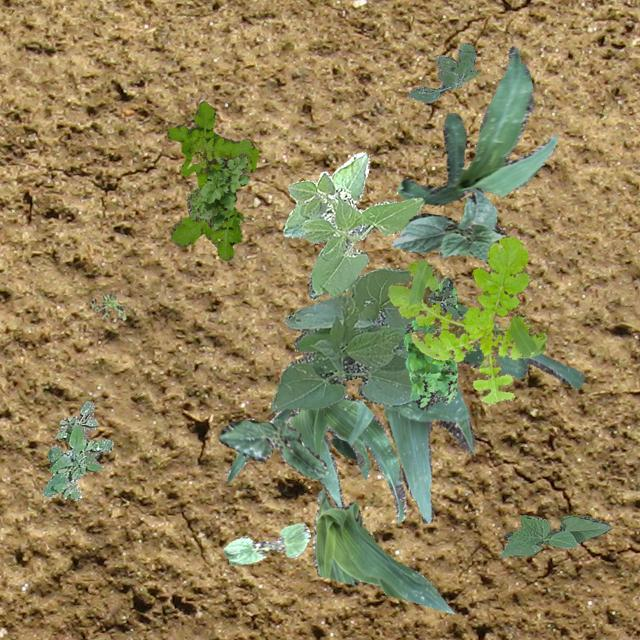crop: (383, 303, 583, 522), (396, 46, 556, 206), (270, 266, 433, 412), (224, 392, 404, 522), (282, 150, 422, 298), (311, 487, 453, 613), (390, 186, 506, 262), (218, 418, 326, 478), (498, 514, 610, 556), (222, 522, 310, 564), (330, 430, 356, 460)
weed: (386, 234, 546, 404), (166, 100, 258, 260), (402, 278, 457, 408), (42, 400, 112, 500), (186, 152, 248, 228), (406, 42, 479, 102), (414, 276, 460, 332), (90, 290, 124, 318)
